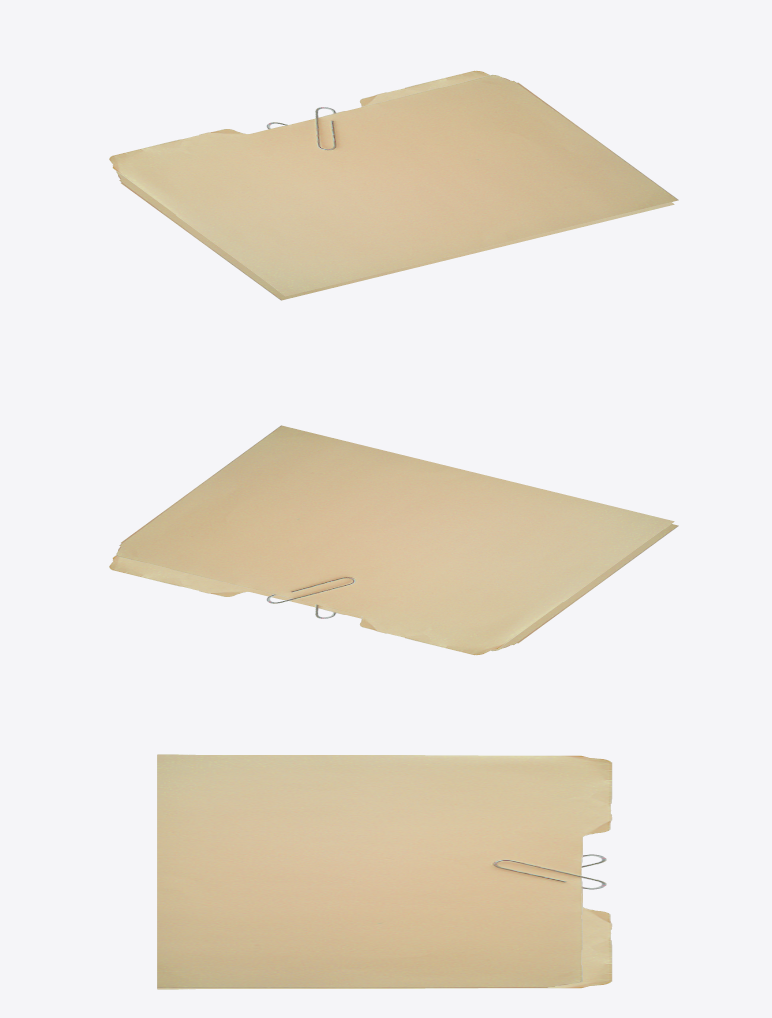
The model's file is off_decal16.fbx.
3 renders of one model, top to bottom at view 1: azimuth 30°, elevation 25°; view 2: azimuth 150°, elevation 25°; view 3: azimuth 270°, elevation 25°, orthographic. The views are drawn at different scales.
Visible parts, largest first — view 1: Plane01, Duplicate00; view 2: Plane01, Duplicate00; view 3: Plane01, Duplicate00.
Boxes of the visible parts, left/top/right/bottom form: Plane01: left=109, top=74, right=678, bottom=296; Duplicate00: left=116, top=70, right=674, bottom=300; Plane01: left=116, top=425, right=674, bottom=655; Duplicate00: left=109, top=524, right=678, bottom=651; Plane01: left=157, top=754, right=612, bottom=987; Duplicate00: left=157, top=854, right=612, bottom=989.
Size of the model in its own units: 12.83 by 0.0909 by 15.54.
